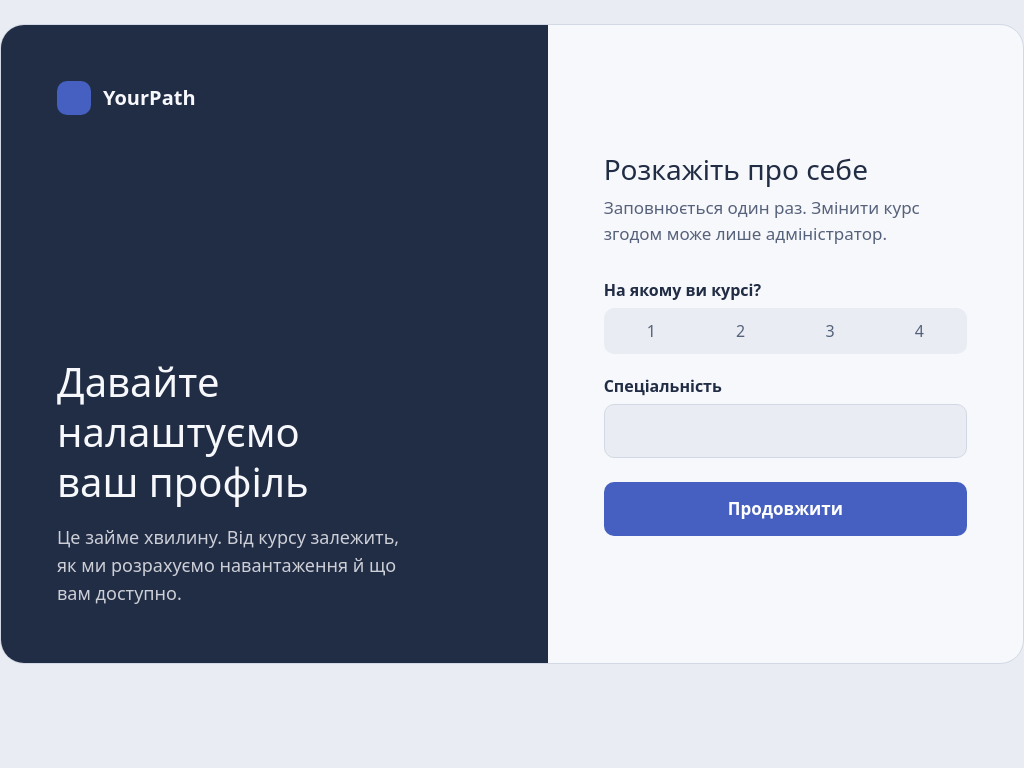
Test case: OnboardingPage › помилка 422 показується біля поля
The width and height of the screenshot is (1024, 768).
Step 1. Click the button "3" → (830, 331), box [785,311,875,351]
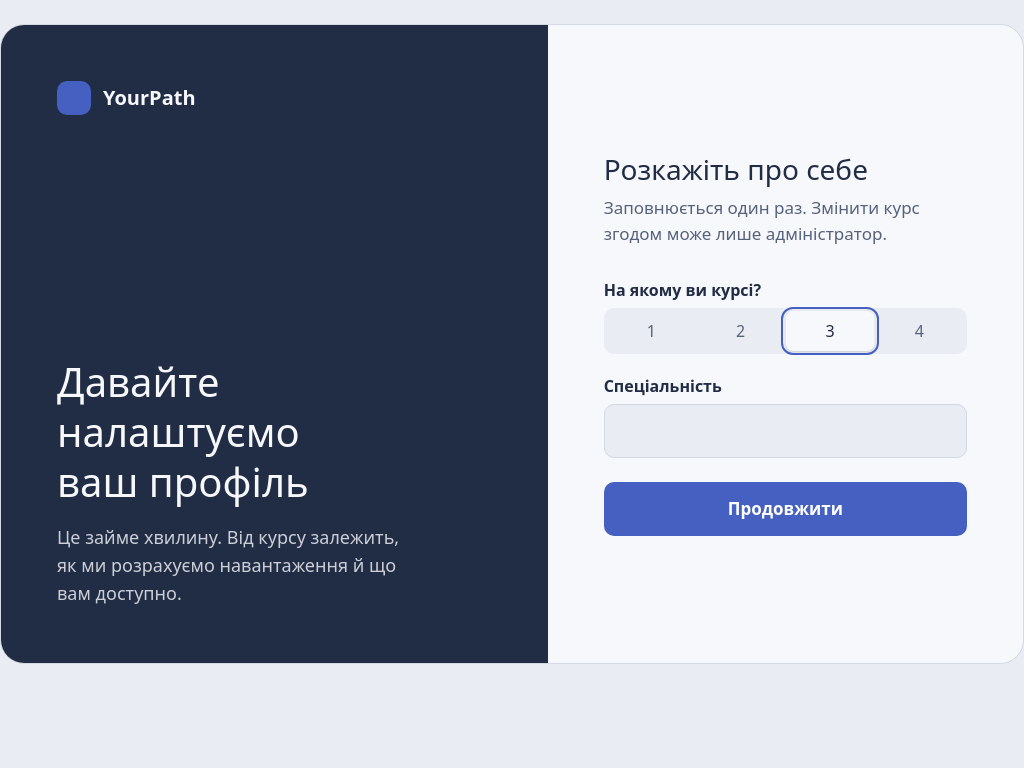
Step 2. Type "І" into the field labelled "Спеціальність" → (785, 431), box [604,404,967,458]
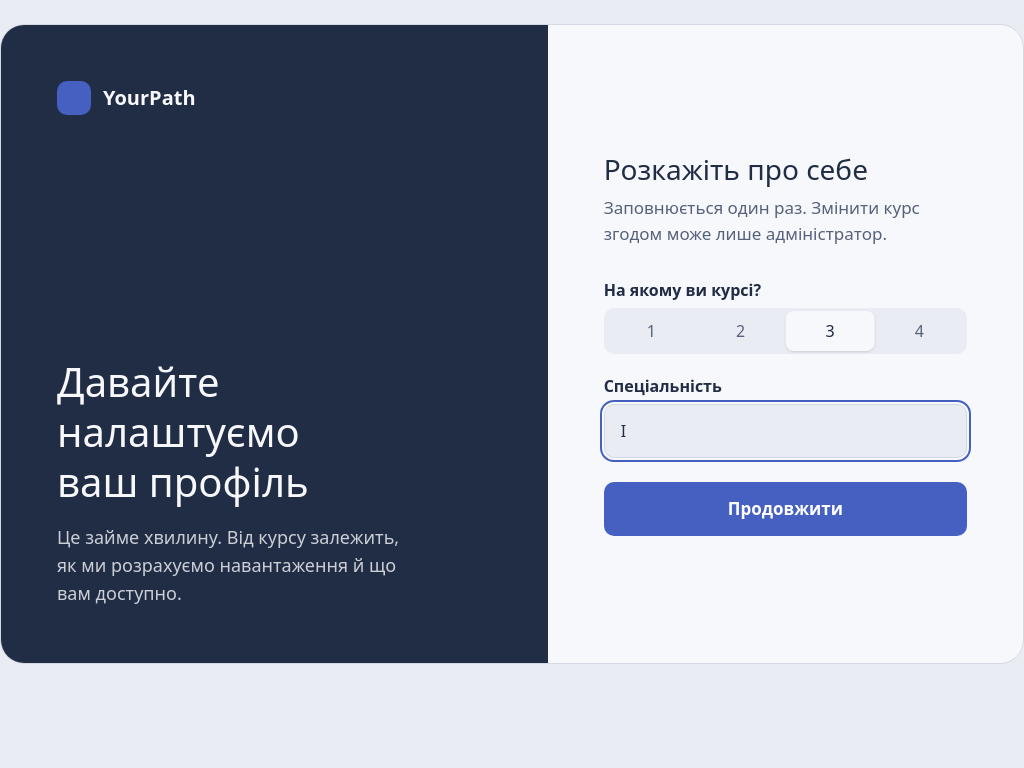
Step 3. Click the button "Продовжити" → (785, 509), box [604,482,967,536]
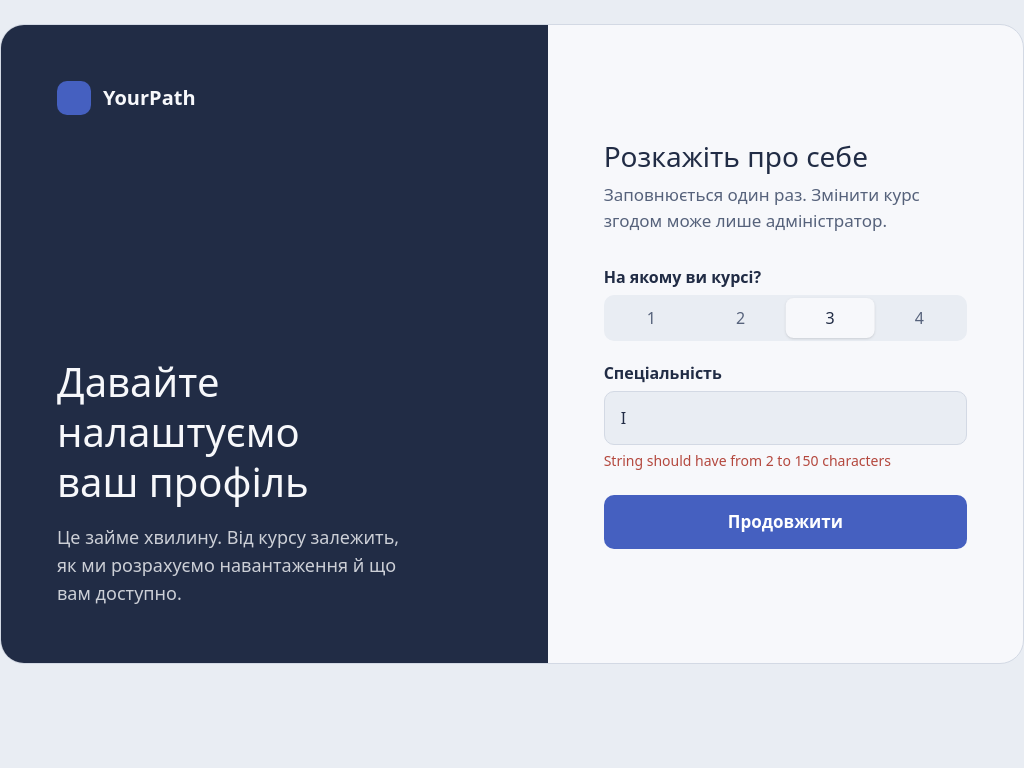
Expected: the text "String should have from 2 to 150 characters" is shown, [604,451,891,470]
